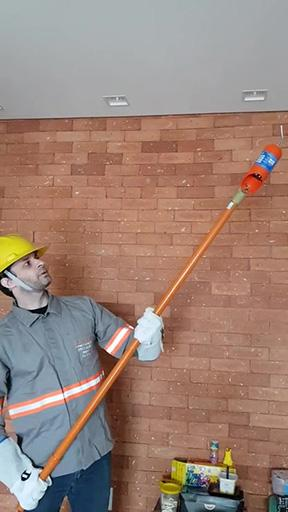Detector_Tensao_Contato: (239, 126, 288, 194)
Vara_Manobra: (16, 196, 246, 510)
